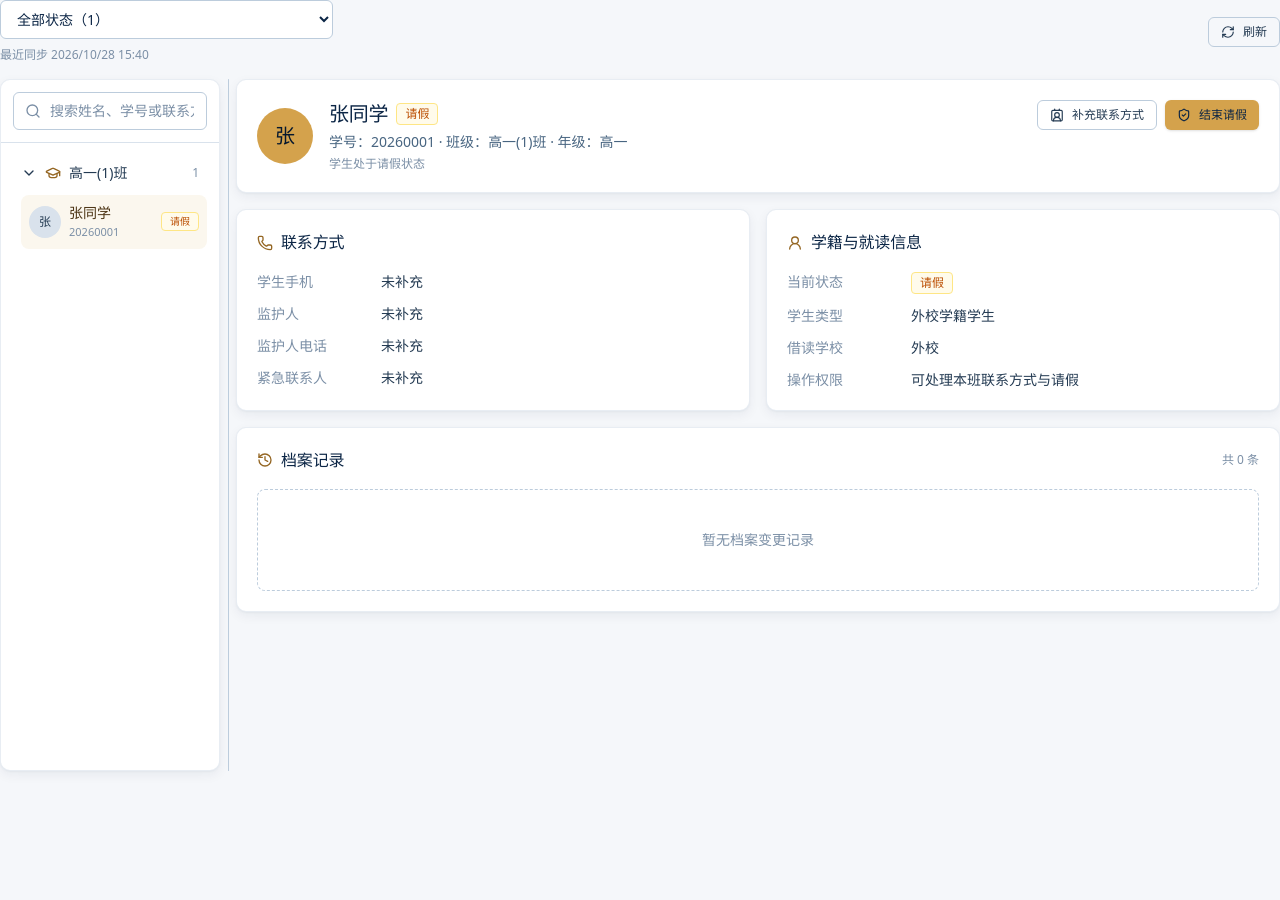
Test case: StudentArchivePage › restores the pre-leave visiting status in the homeroom action
Click the button "结束请假": (1212, 115) [1165, 100, 1259, 130]
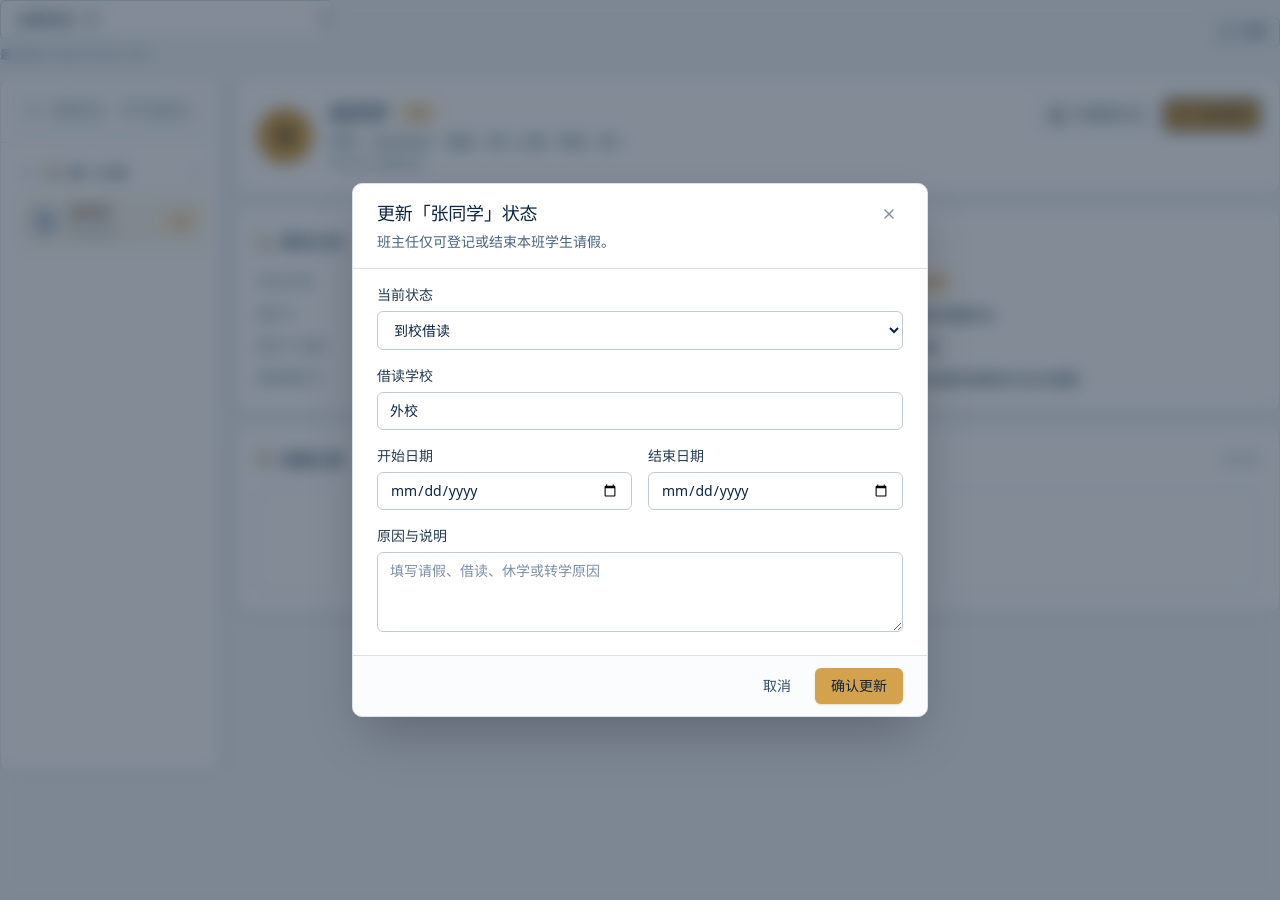
Result: the dropdown labelled "当前状态" shows "到校借读" at [377, 311, 903, 350]
